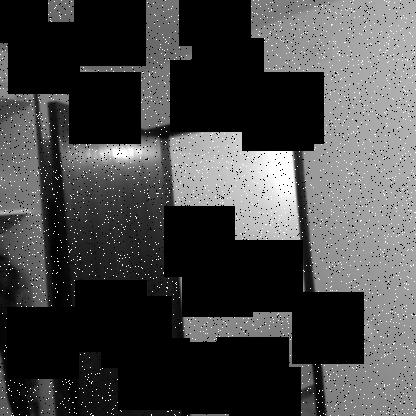Porte: (46, 93, 328, 415)
